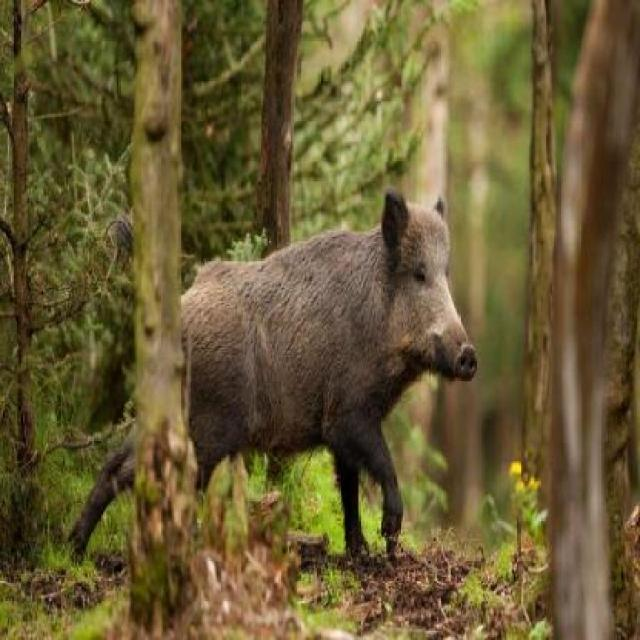wildboar: (63, 187, 479, 571)
